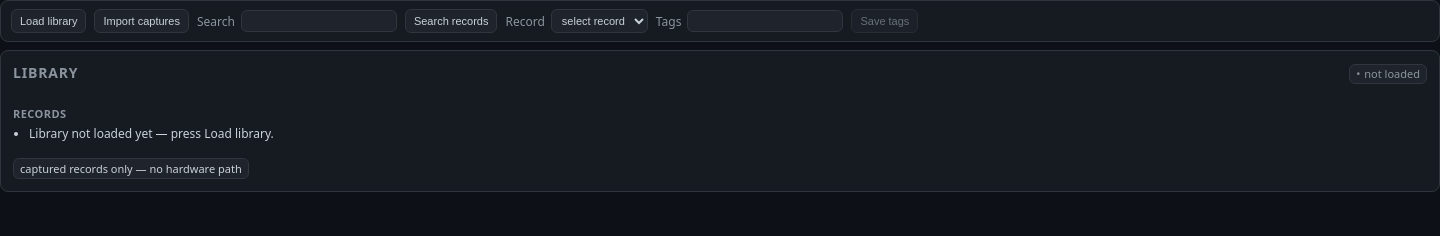
Test case: LibraryPanel (interactive) › searches records through the labelled form
Type "acid" into the field with test id "library-search-input" at (319, 21), box x1=241 y1=10 x2=397 y2=32
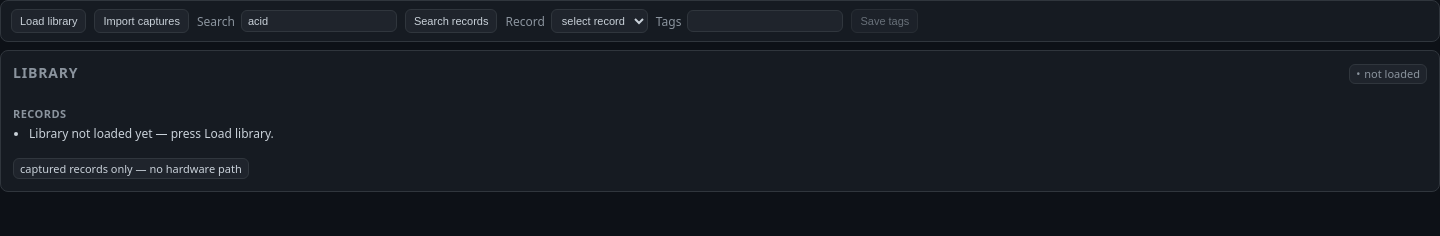
Click the button with test id "library-search-submit" at (451, 21), box x1=405 y1=9 x2=498 y2=33
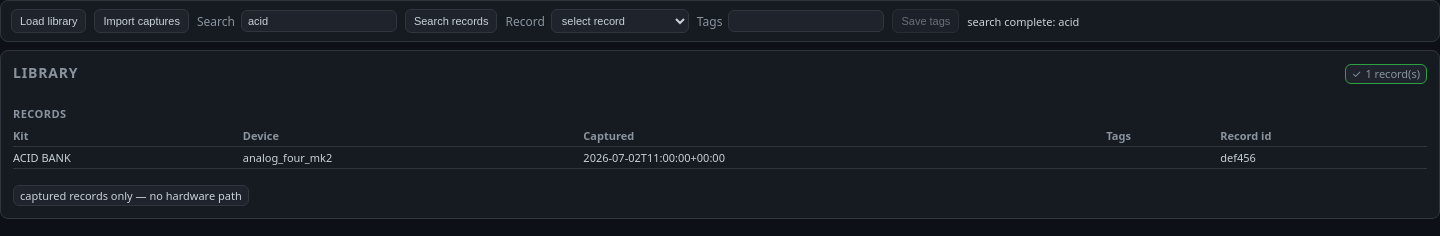
Check: the text "search complete: acid" is shown, box x1=967 y1=14 x2=1079 y2=28
Click the button with test id "library-search-submit" at (451, 21), box x1=405 y1=9 x2=498 y2=33
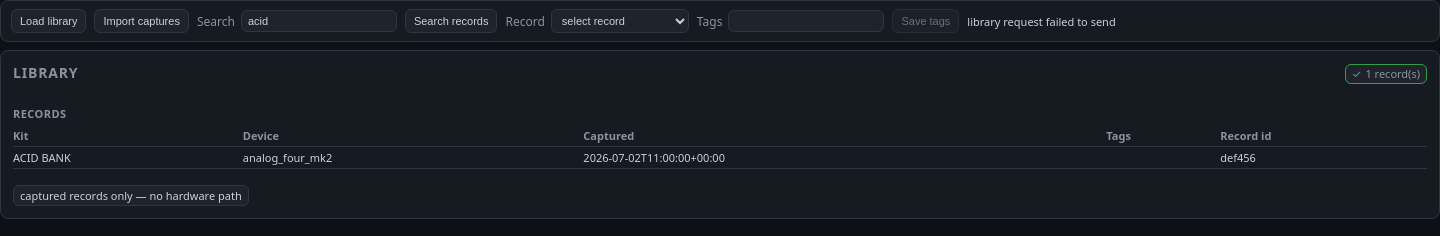
Check: the text "library request failed to send" is shown, box x1=967 y1=14 x2=1116 y2=28
